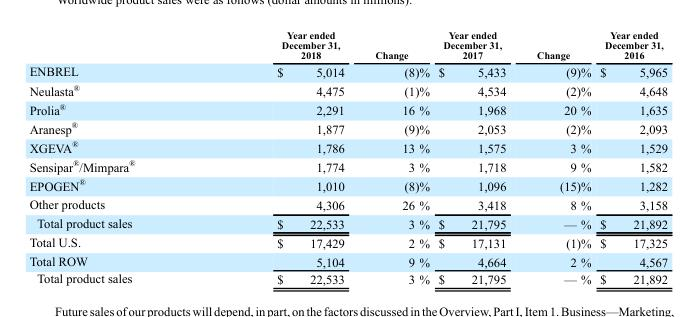table: (28, 28, 667, 286)
table column: (28, 28, 205, 286), (205, 28, 359, 286), (433, 28, 520, 286), (359, 28, 433, 286), (520, 28, 594, 286), (594, 28, 667, 286)
table column header: (28, 28, 667, 62)
table row: (28, 28, 667, 62), (28, 80, 667, 99), (28, 99, 667, 118), (28, 118, 667, 137), (28, 137, 667, 156), (28, 156, 667, 175), (28, 175, 667, 194), (28, 194, 667, 213), (28, 213, 667, 232), (28, 232, 667, 251), (28, 62, 667, 80), (28, 251, 667, 269), (28, 269, 667, 286)
